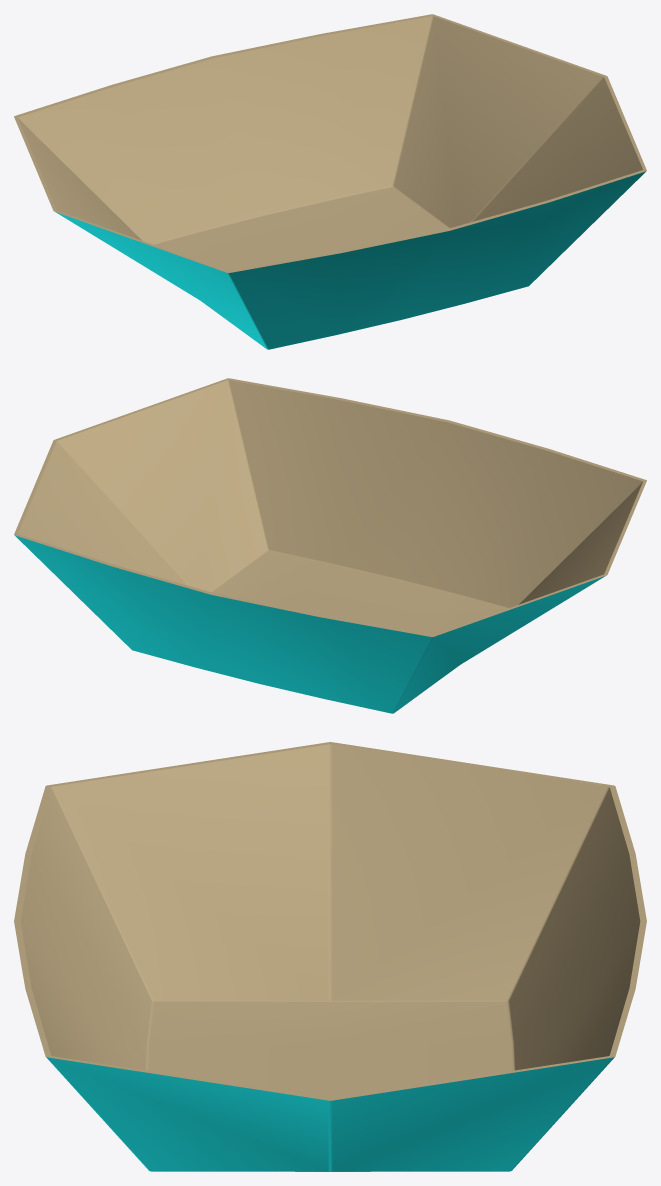
Rendered from Paper tray.fbx.
The picture shows the model from 3 angles, top to bottom: view 1: azimuth 30°, elevation 25°; view 2: azimuth 150°, elevation 25°; view 3: azimuth 270°, elevation 25°; orthographic projection. The views are drawn at different scales.
Visible parts, largest first — view 1: Box001; view 2: Box001; view 3: Box001.
Boxes of the visible parts, x1,y1,x2,y2 form: Box001: (14, 14, 646, 349); Box001: (14, 378, 646, 713); Box001: (14, 742, 646, 1171).
Size of the model in its own units: 175 by 37.89 by 131.
